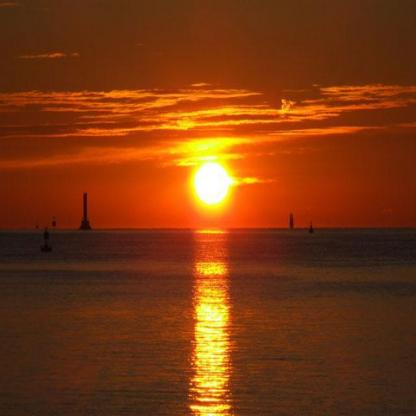other: (187, 245, 236, 389), (174, 136, 257, 216)
